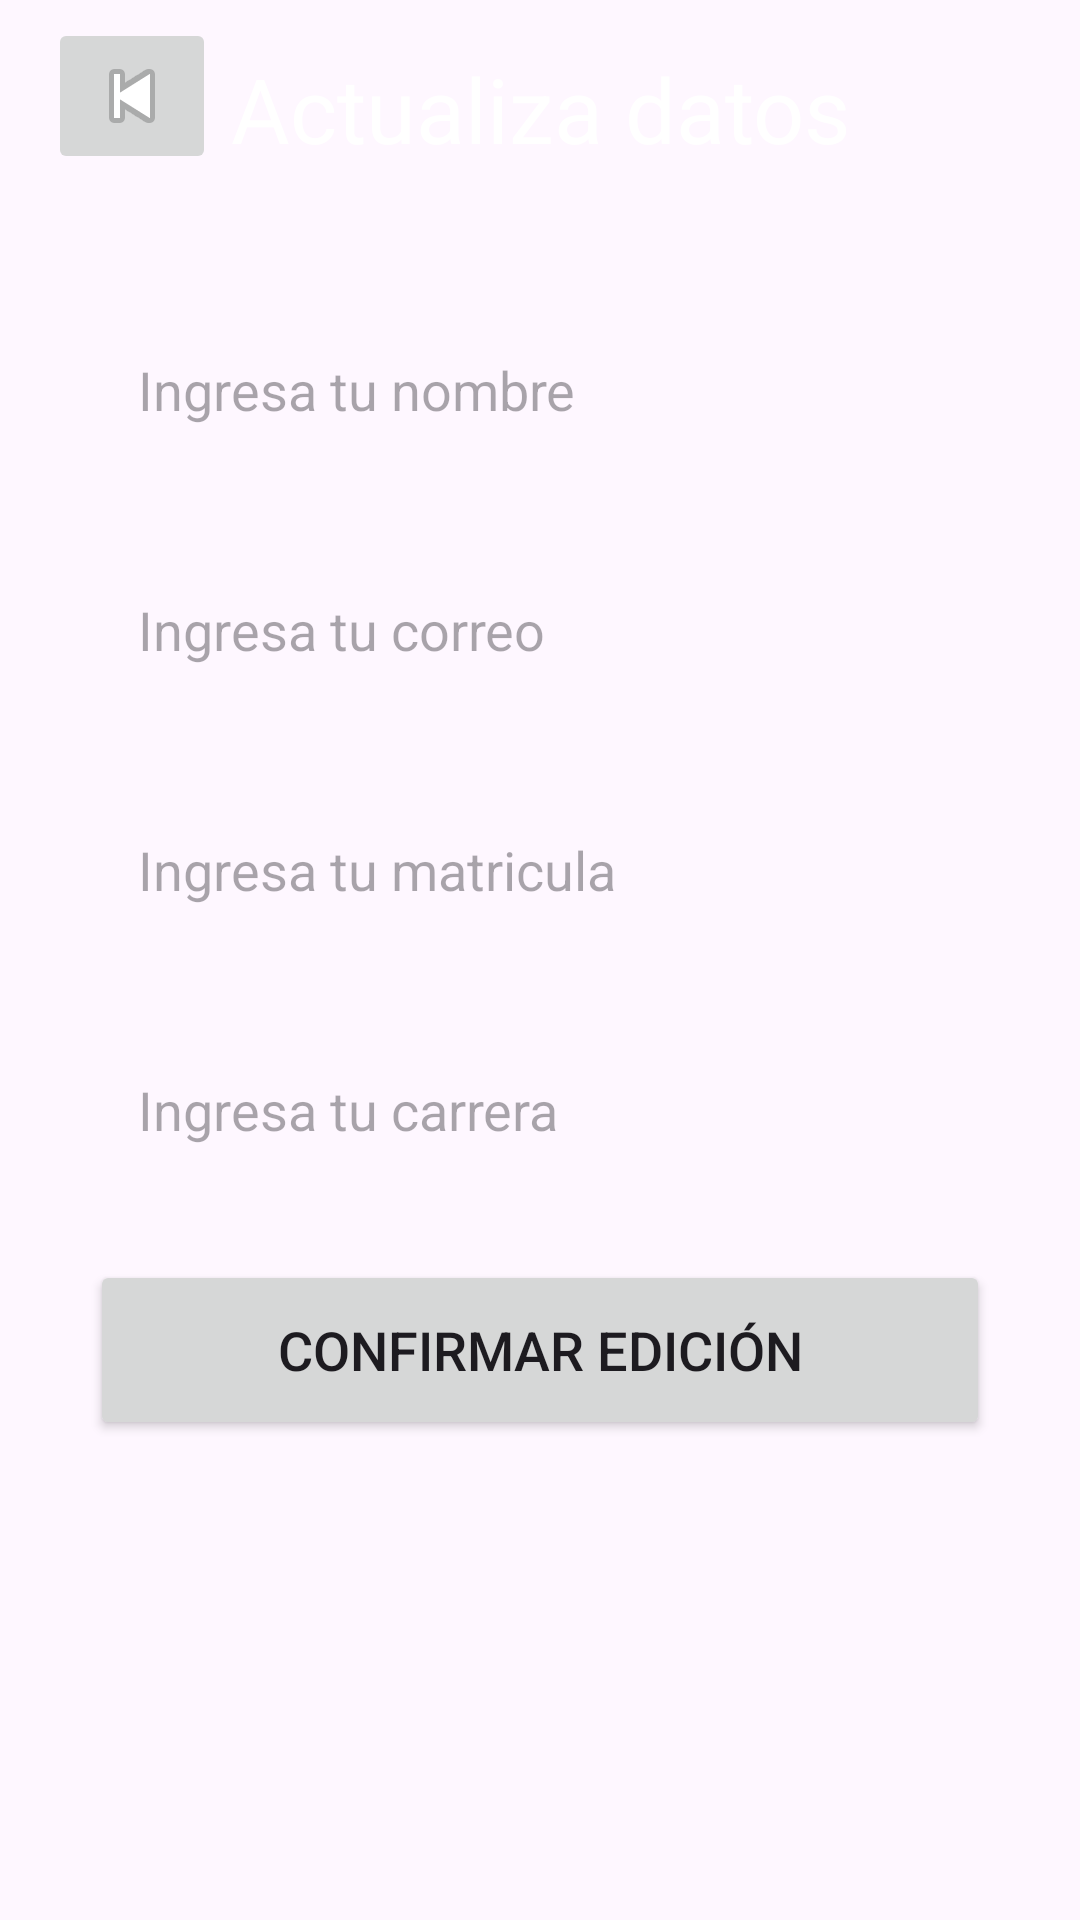

Where icons sit on this 1080x1920 app screen, as (x1, y1, x2, y2):
previous: (60, 36, 204, 156)
